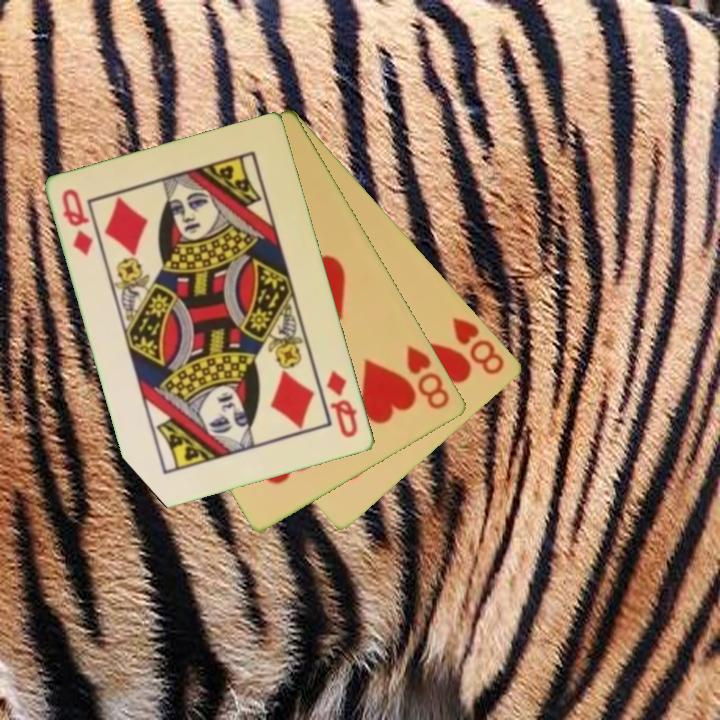8h: (448, 313, 508, 378), (403, 341, 453, 413)
Qd: (323, 367, 361, 441), (59, 185, 97, 259)
